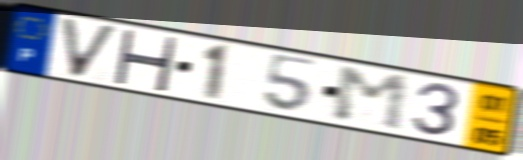1: (200, 42, 237, 106)
3: (409, 81, 462, 139)
5: (260, 51, 323, 116)
H: (110, 27, 181, 94)
M: (332, 64, 412, 134)
V: (57, 15, 123, 82)
